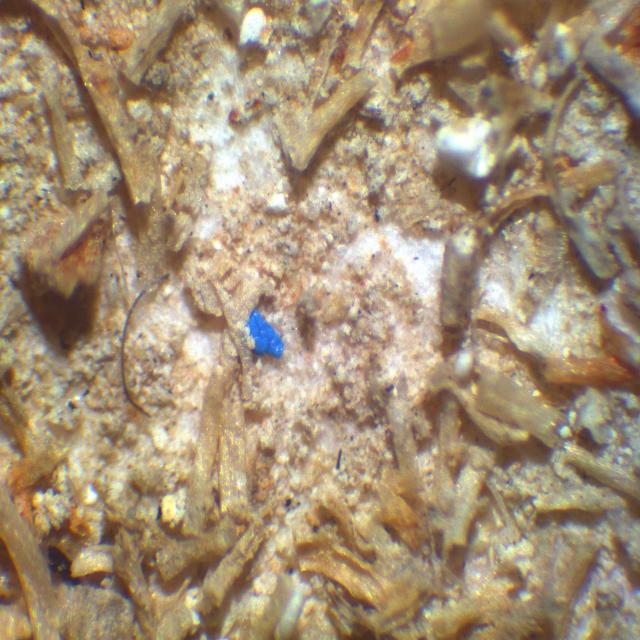microplastic: (245, 308, 284, 360)
